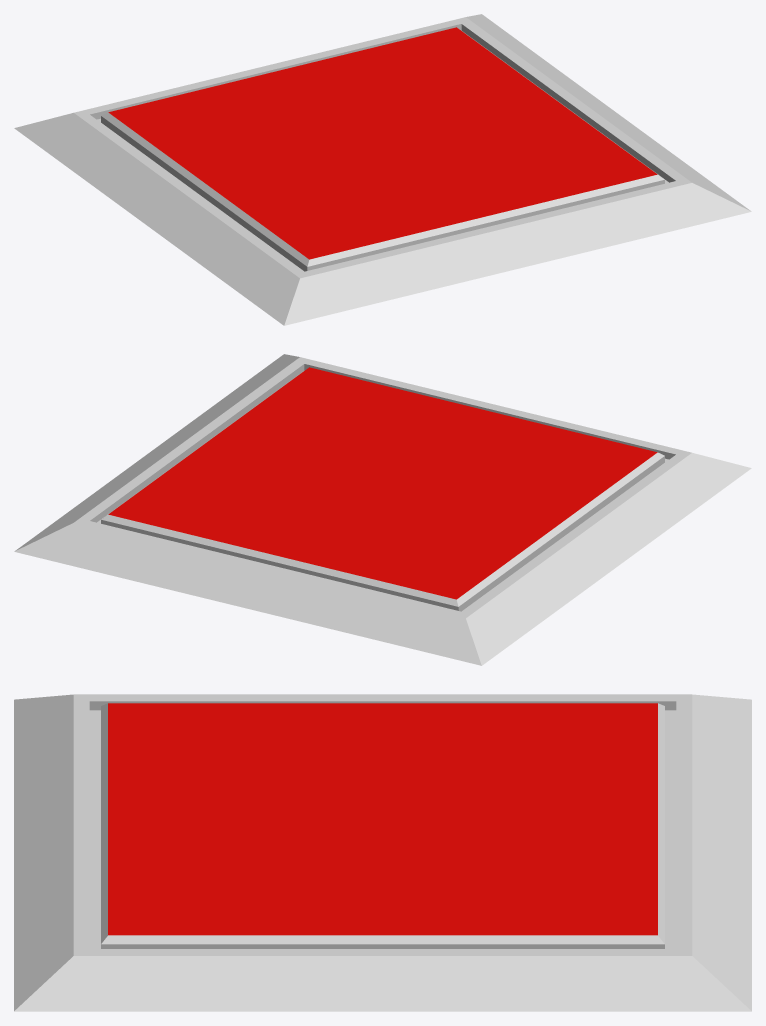
File: JumpPad.fbx
3 views of the same model, one above another, from view 1: azimuth 30°, elevation 25°; view 2: azimuth 150°, elevation 25°; view 3: azimuth 270°, elevation 25° (orthographic). The views are drawn at different scales.
Visible parts, largest first — view 1: JumpPad; view 2: JumpPad; view 3: JumpPad.
Boxes of the visible parts, box(x1,y1,x2,y2) form: JumpPad: box(14, 14, 751, 325); JumpPad: box(14, 354, 751, 665); JumpPad: box(14, 694, 751, 1011).
Size of the model in its own units: 27.09 by 500 by 500.
